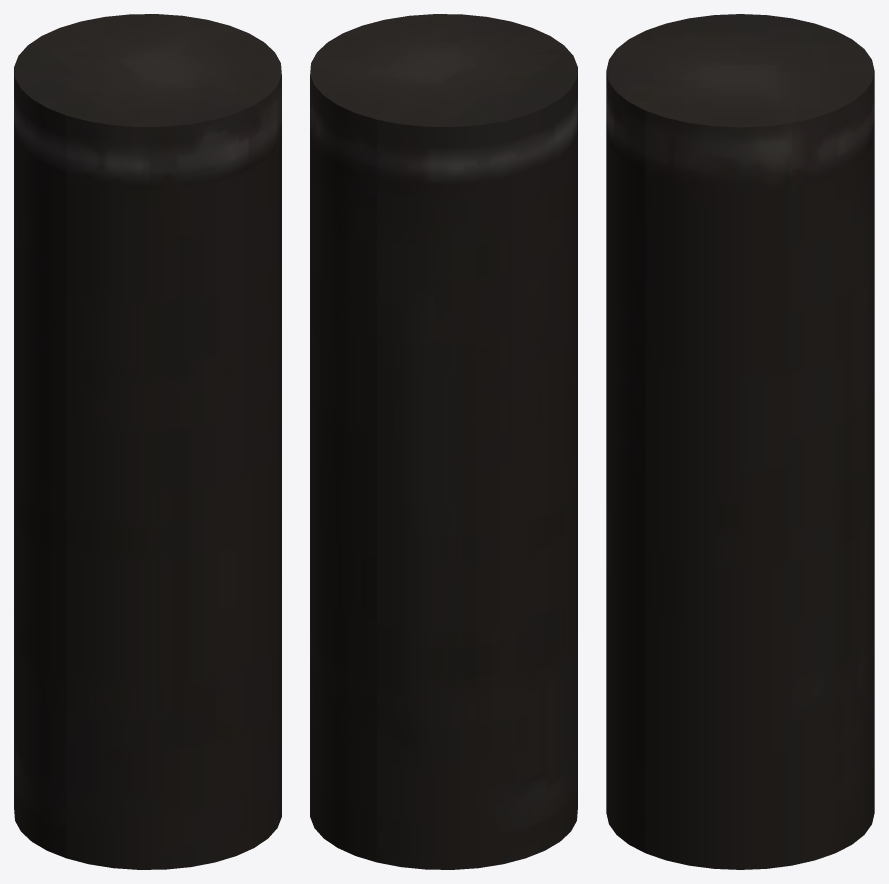
The model's file is door__pull_handle_standoff_1.glb.
3 views of the same model, side by side, from view 1: azimuth 30°, elevation 25°; view 2: azimuth 150°, elevation 25°; view 3: azimuth 270°, elevation 25° (orthographic).
Visible parts, largest first — view 1: geometry_0; view 2: geometry_0; view 3: geometry_0.
Part boxes in pixels (bbox=[...]): geometry_0: bbox=[14, 14, 281, 869]; geometry_0: bbox=[310, 14, 577, 869]; geometry_0: bbox=[606, 14, 874, 869].
Bounding box in the file's own units: 0.018 × 0.055 × 0.018.
1 material, 1 textured.
